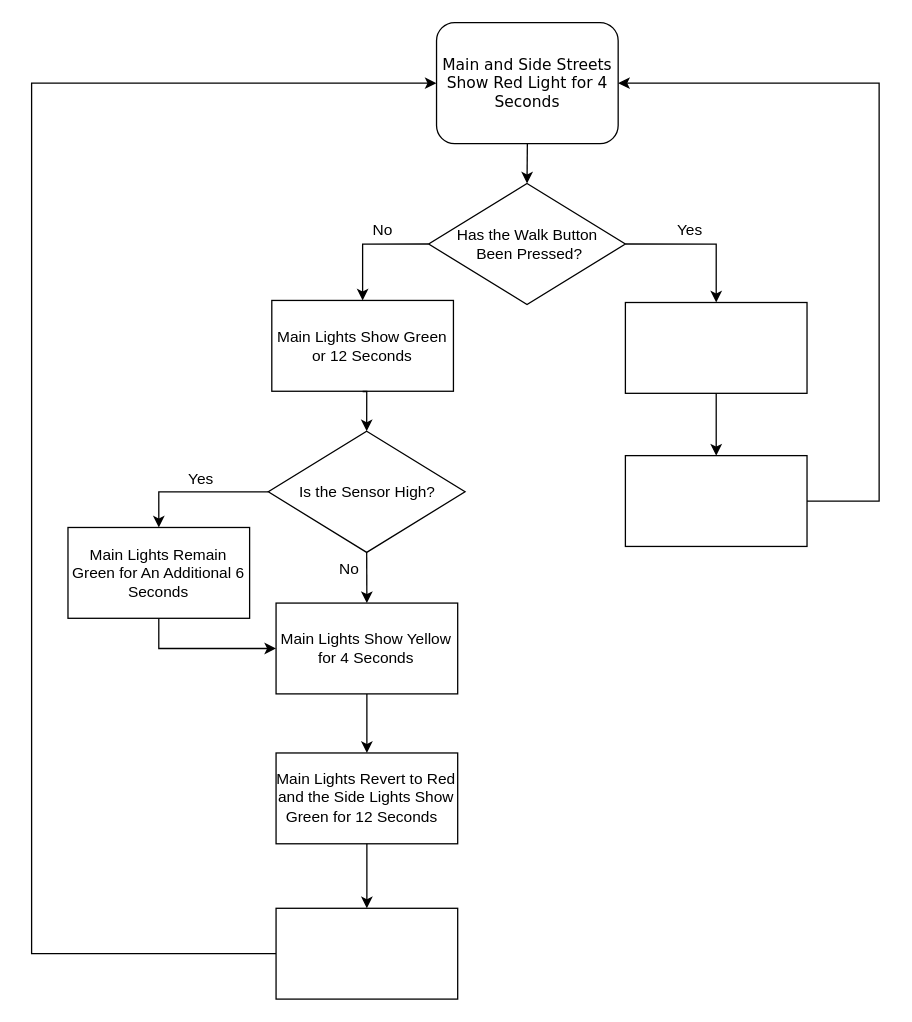
The diagram is 912 pixels wide and 1022 high, and some of its shapes have lost their labels. The box of each missing label's shape, as (x1, y1, x2, y2) in pixels:
Side Lights Blink for 4 Seconds: (624, 454, 807, 546)
Side Lights Show Green for 12 Seconds: (624, 301, 807, 393)
Side Lights Show Yellow for 3 Seconds: (275, 907, 458, 999)
